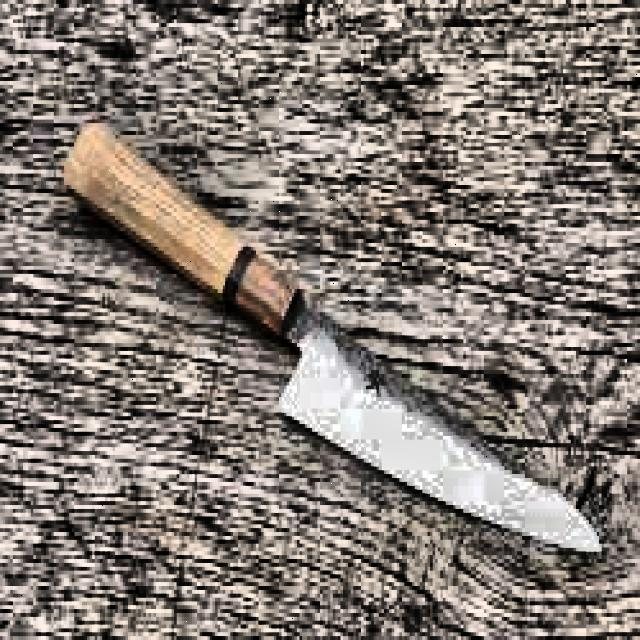knife: (65, 129, 600, 555)
